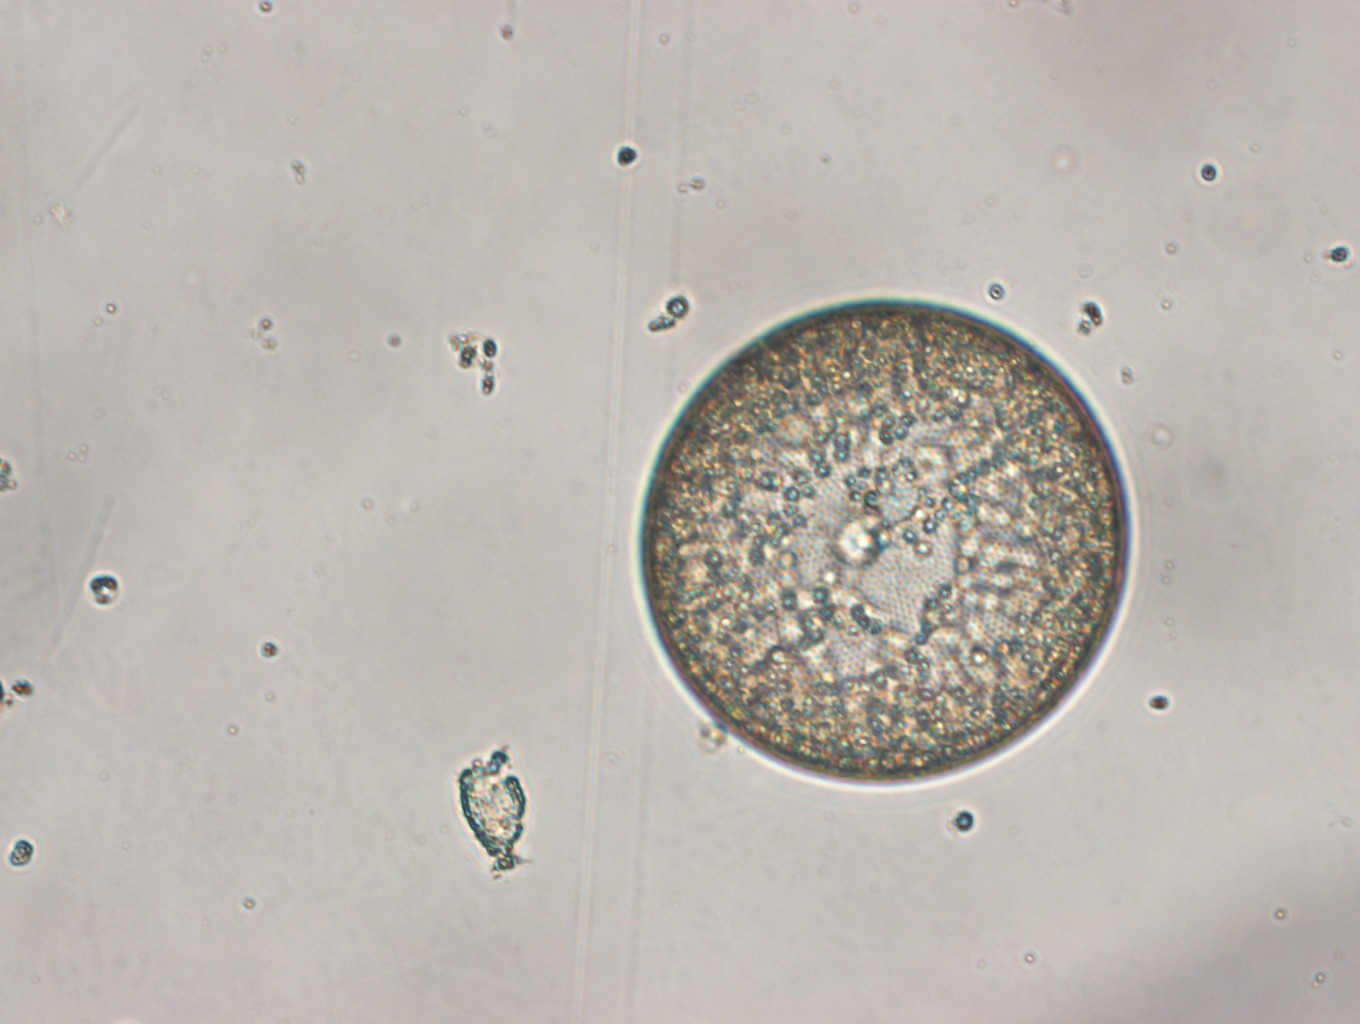coscinodiscus: (633, 291, 1139, 795)
